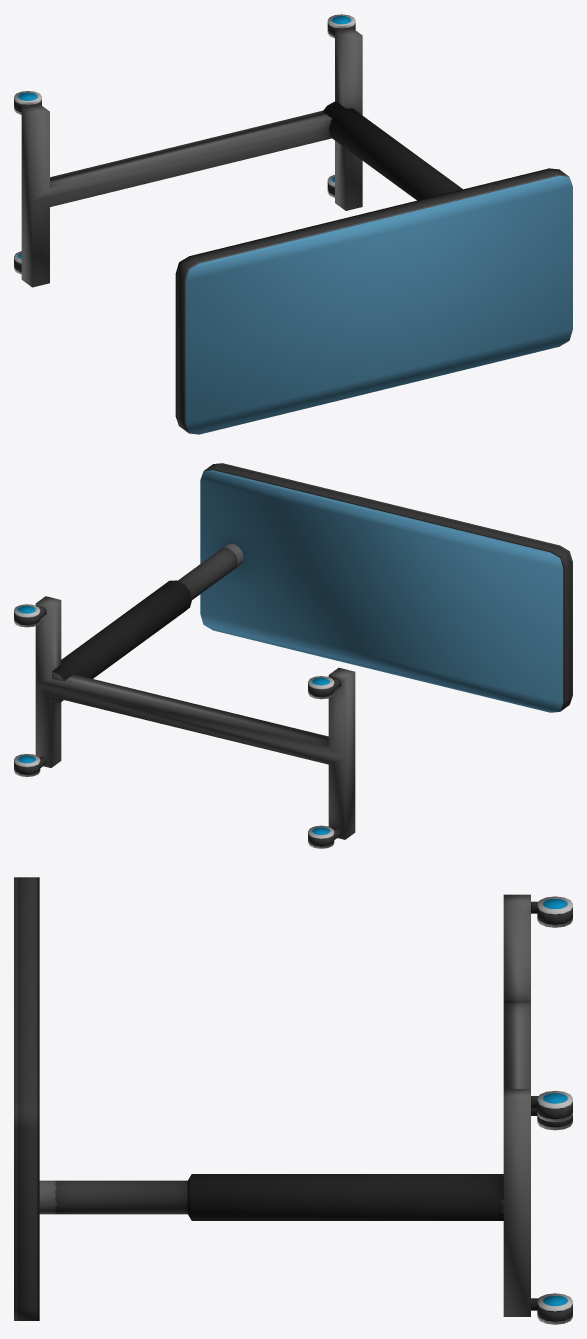
The model's file is BedTable.obj.
The picture shows the model from 3 angles, top to bottom: view 1: azimuth 30°, elevation 25°; view 2: azimuth 150°, elevation 25°; view 3: azimuth 270°, elevation 25°; orthographic projection. The views are drawn at different scales.
Visible parts, largest first — view 1: BedTable; view 2: BedTable; view 3: BedTable.
Part boxes in pixels (x1,y1,x2,y2): BedTable: [14, 14, 572, 434]; BedTable: [14, 463, 572, 848]; BedTable: [14, 877, 572, 1324].
Bounding box in the file's own units: 1.07 × 0.4568 × 1.06.
